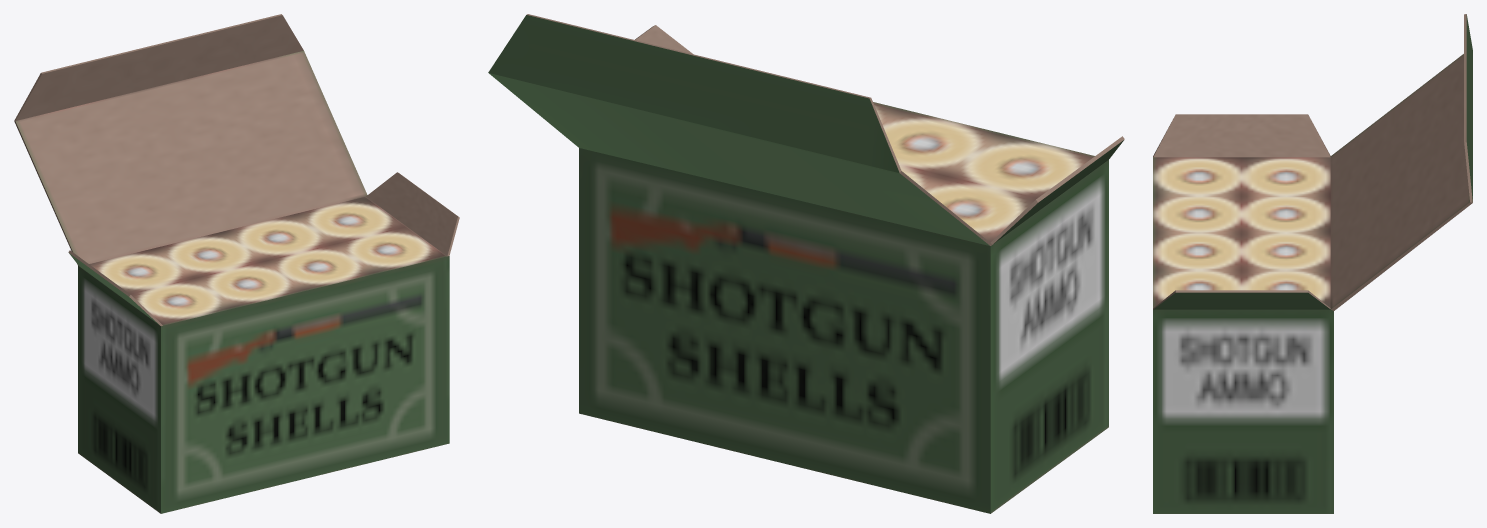
Rendered from ShotgunBoxG.FBX.
The picture shows the model from 3 angles, left to right: view 1: azimuth 30°, elevation 25°; view 2: azimuth 150°, elevation 25°; view 3: azimuth 270°, elevation 25°; orthographic projection. The views are drawn at different scales.
Parts seen in each view (by area): view 1: BoxOfShotGunShells003; view 2: BoxOfShotGunShells003; view 3: BoxOfShotGunShells003.
Boxes of the visible parts, x1=… form: BoxOfShotGunShells003: x1=14, y1=14, x2=459, y2=513; BoxOfShotGunShells003: x1=488, y1=14, x2=1124, y2=513; BoxOfShotGunShells003: x1=1153, y1=14, x2=1472, y2=513.
Size of the model in its own units: 0.0905 by 0.0863 by 0.0696.
